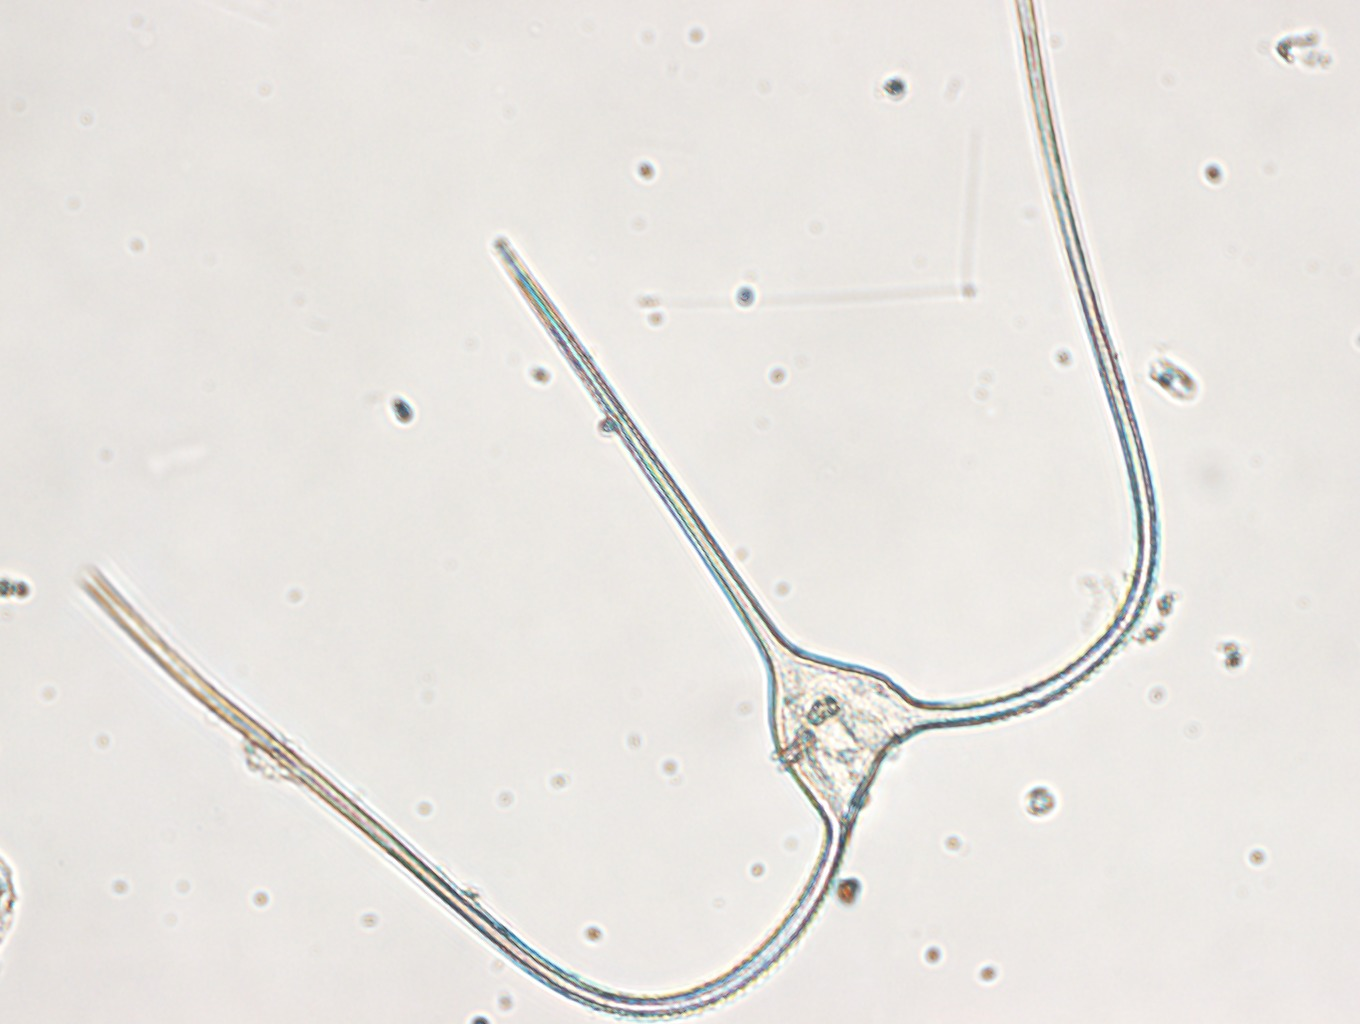ceratium trichoceros: (1, 1, 1158, 1016)
